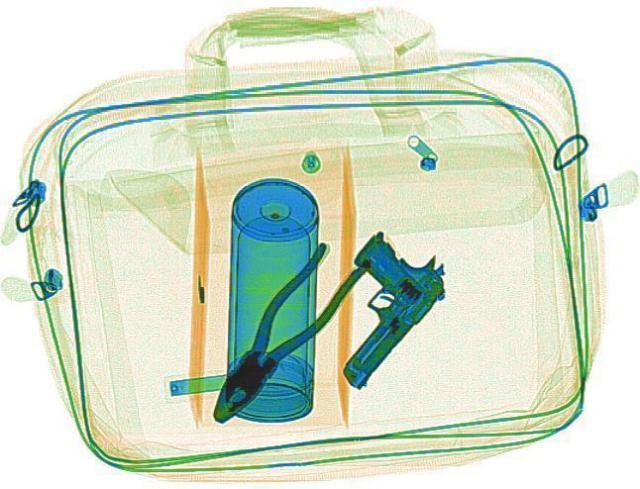Gun: (269, 227, 469, 388)
Pliers: (186, 239, 374, 430)
